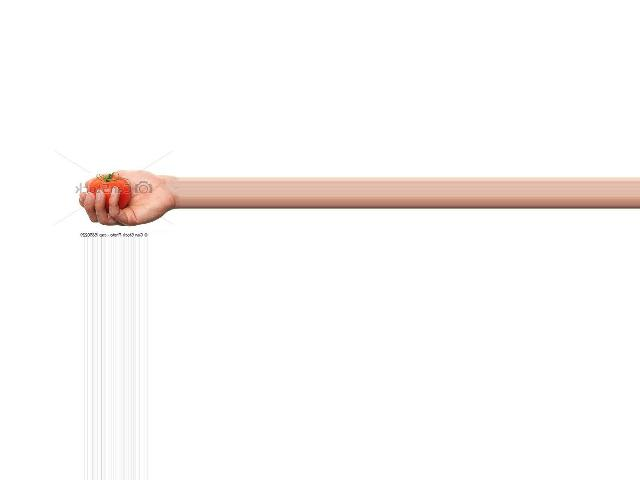tomato: (87, 175, 128, 211)
